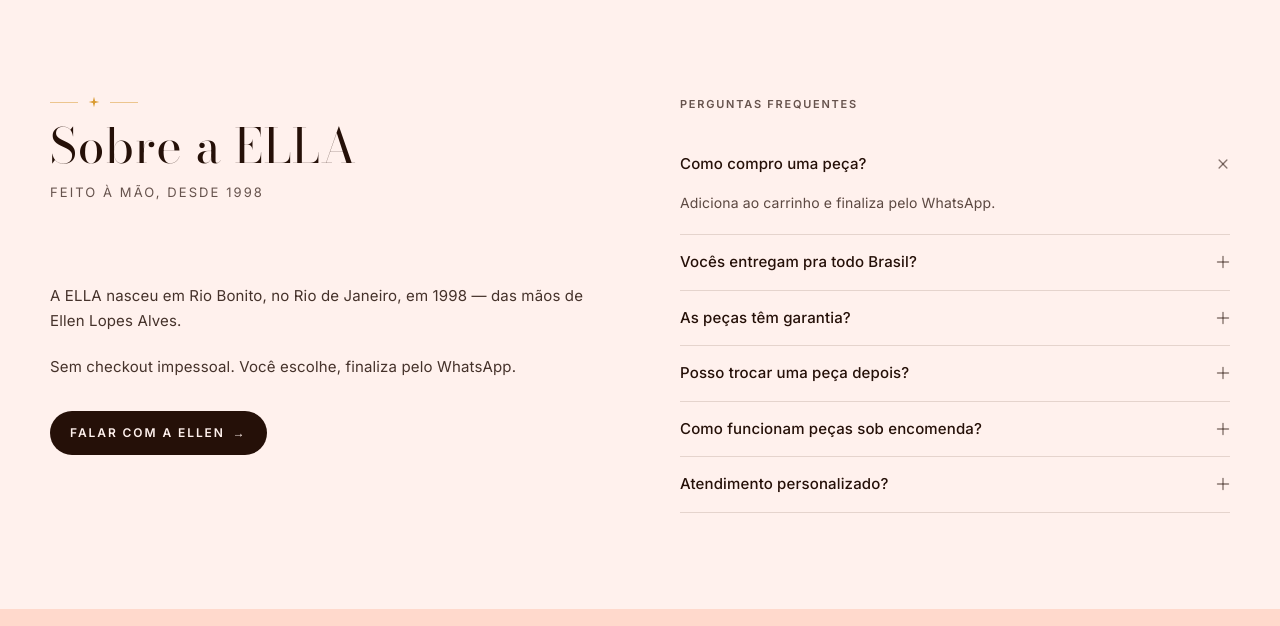
SobreNos › clicking an open FAQ item closes it
Click the button "Como compro uma peça?" at x=773, y=163, box [680, 136, 1230, 191]
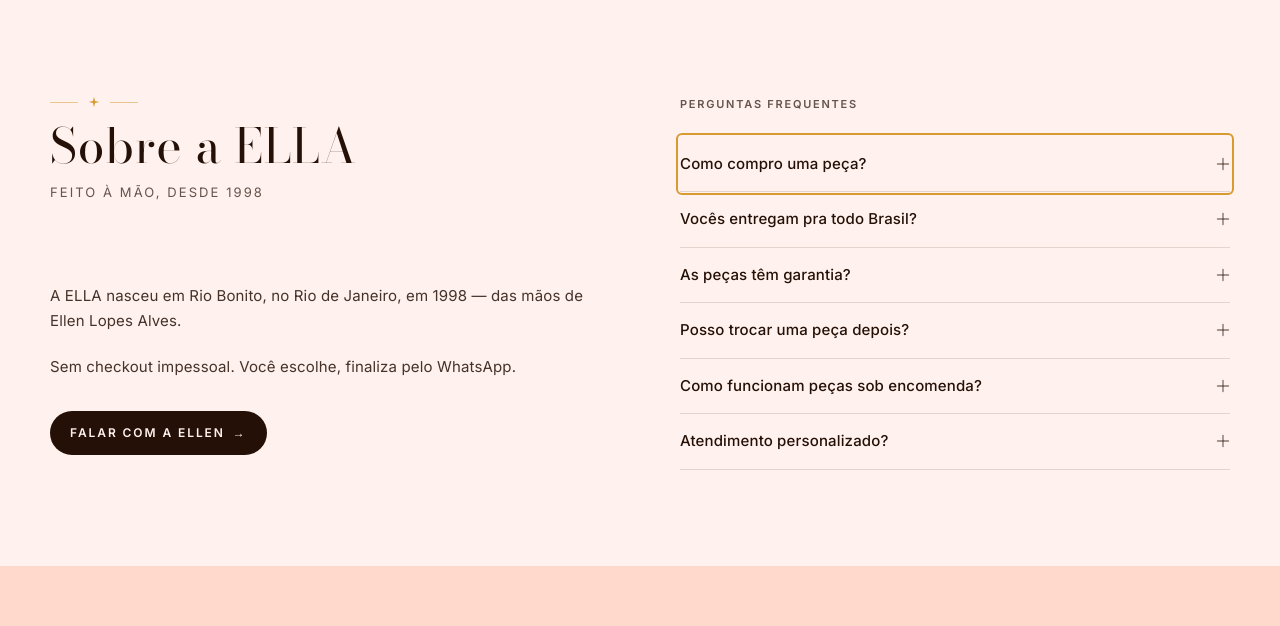
expect the button "Como compro uma peça?" is collapsed: met, box [680, 136, 1230, 191]
